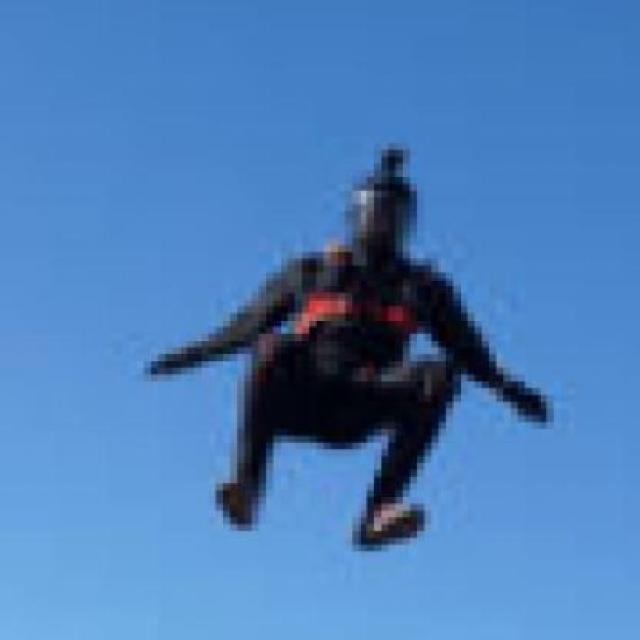fall: (146, 131, 562, 571)
